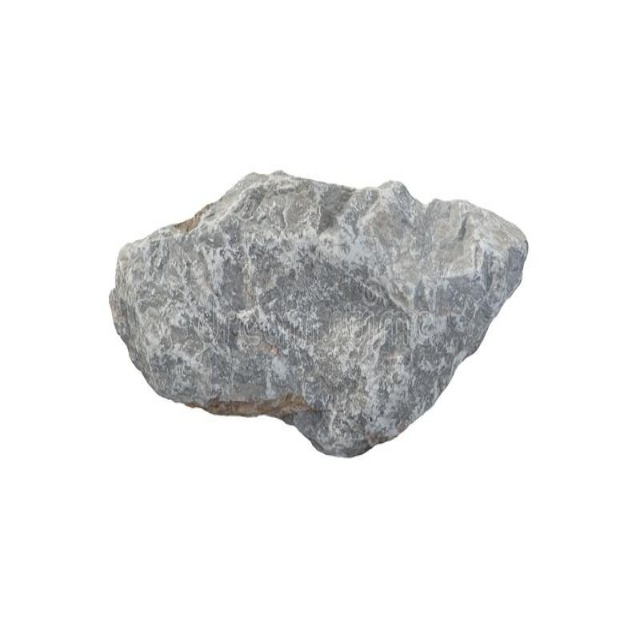obstacle: (110, 172, 527, 455)
